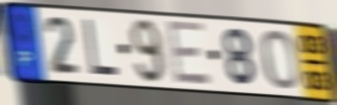2: (43, 14, 82, 78)
8: (222, 27, 258, 88)
9: (128, 17, 167, 86)
E: (164, 18, 214, 88)
L: (82, 17, 121, 80)
O: (259, 28, 301, 92)
